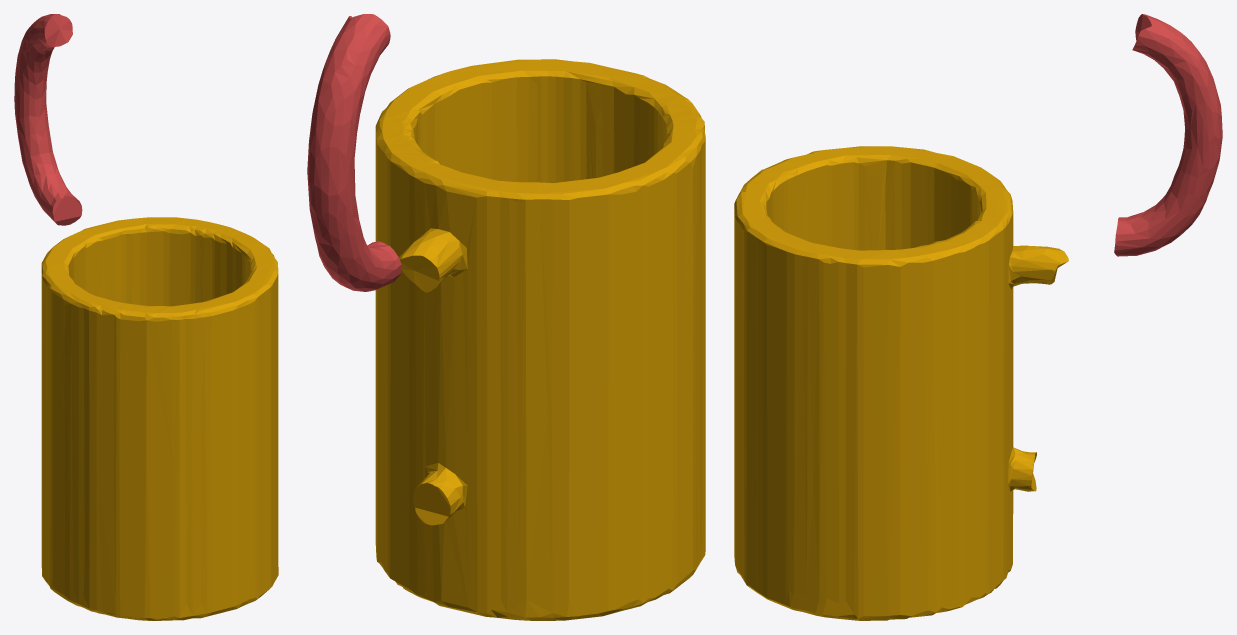
The model's file is mode_1_2pcs_transformed.glb.
3 views of the same model, side by side, from view 1: azimuth 30°, elevation 25°; view 2: azimuth 150°, elevation 25°; view 3: azimuth 270°, elevation 25° (orthographic). The views are drawn at different scales.
Parts seen in each view (by area): view 1: piece_0.obj, piece_1.obj; view 2: piece_0.obj, piece_1.obj; view 3: piece_0.obj, piece_1.obj.
Boxes of the visible parts, x1,y1,x2,y2 form: piece_0.obj: [41, 217, 278, 620]; piece_1.obj: [14, 14, 82, 225]; piece_0.obj: [375, 59, 705, 620]; piece_1.obj: [307, 14, 401, 291]; piece_0.obj: [734, 146, 1068, 620]; piece_1.obj: [1114, 14, 1222, 256].
Bounding box in the file's own units: 0.6884 × 1.51 × 1.2.
